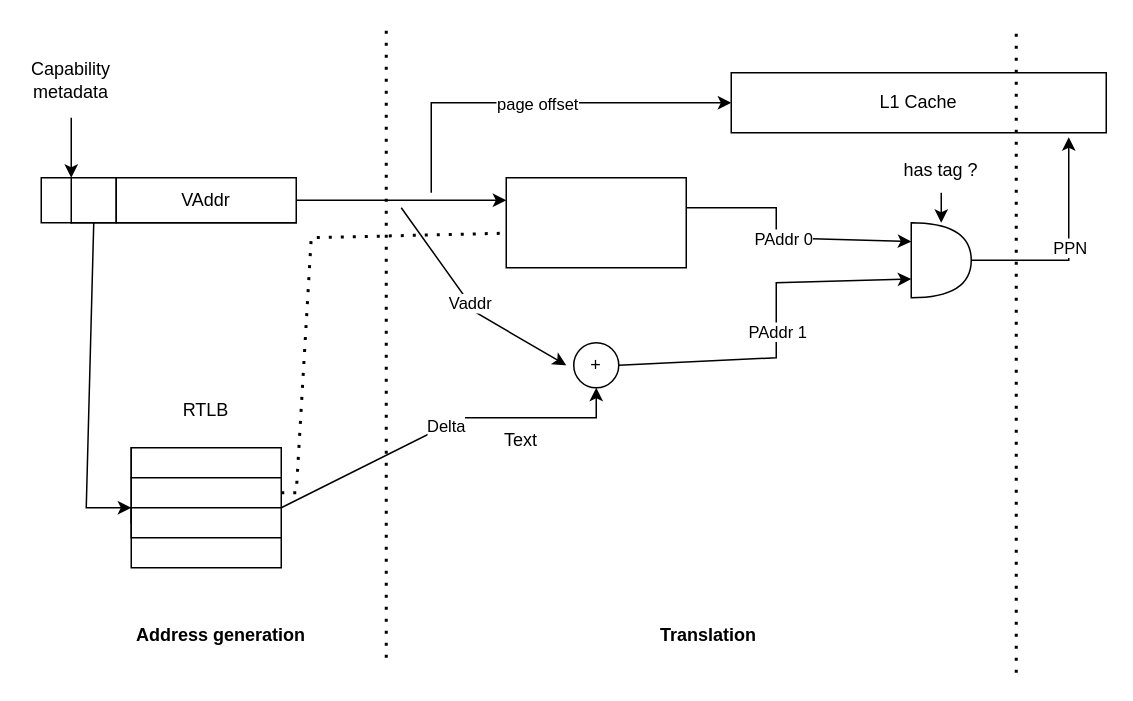
This 1133x701 diagram has some shape labels left out. Here are the shapes that lost their labels. From the top down, the centre of each, then its label:
At [93,199]: "ID".
At [595,222]: "Page TLB".
